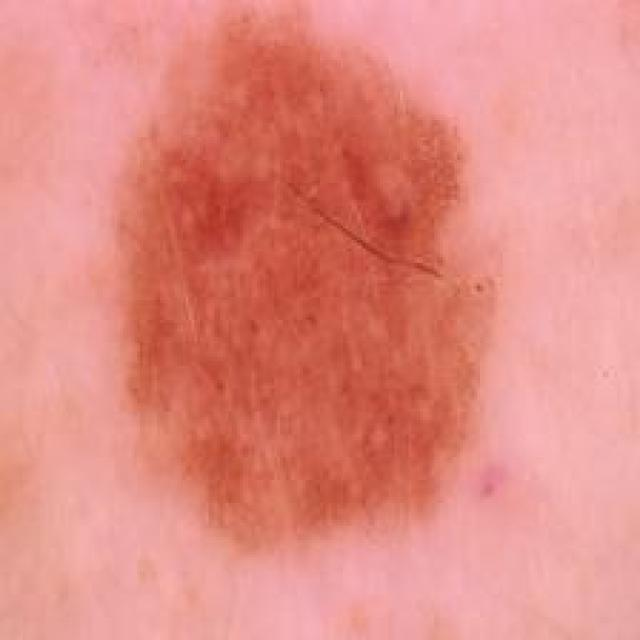Cancer: (106, 0, 503, 551)
